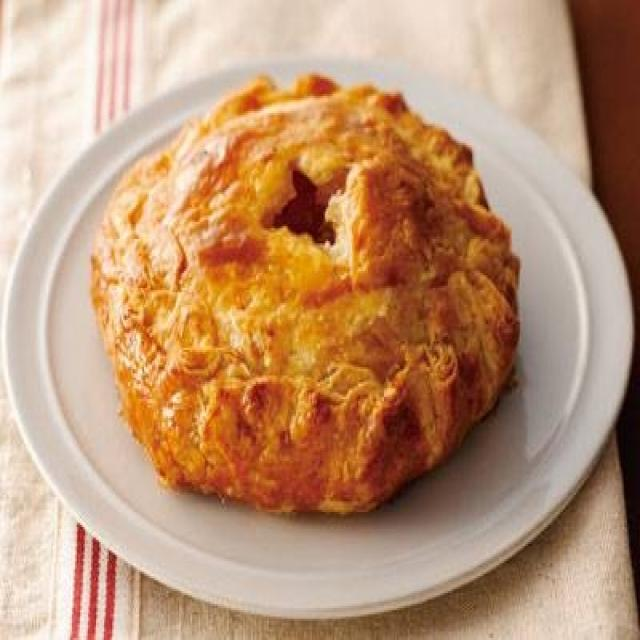炸货点心: (5, 58, 632, 620)
蛋糕甜品: (5, 58, 632, 620)
